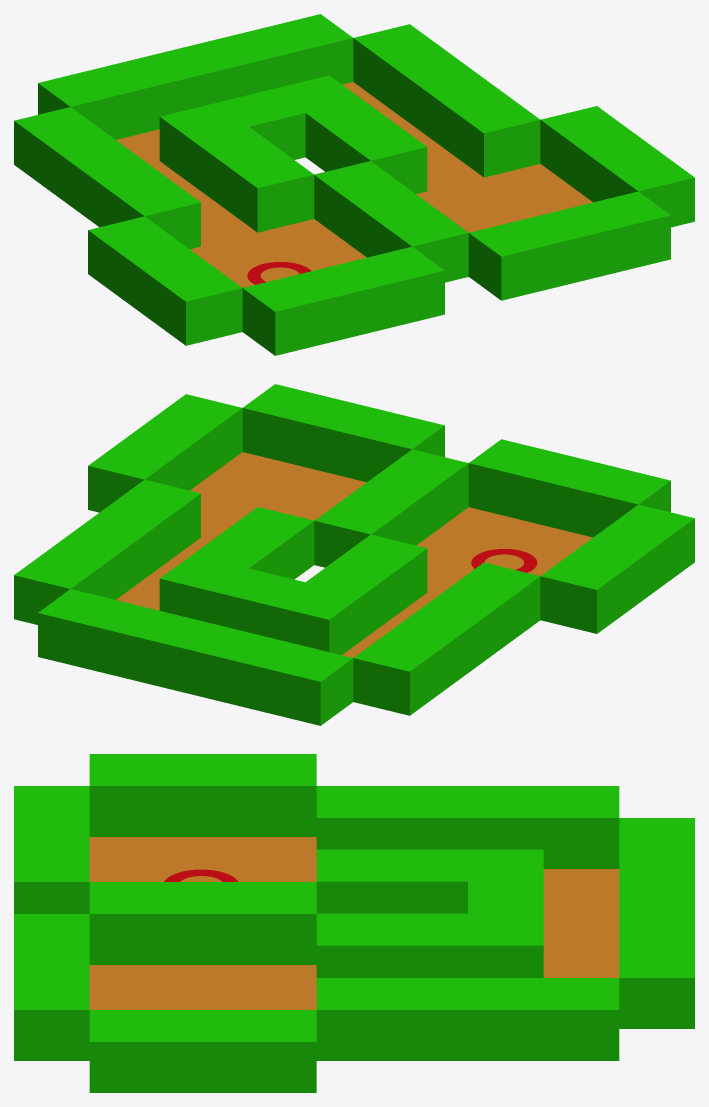
File: Level#8.fbx
3 views of the same model, one above another, from view 1: azimuth 30°, elevation 25°; view 2: azimuth 150°, elevation 25°; view 3: azimuth 270°, elevation 25° (orthographic). The views are drawn at different scales.
Parts seen in each view (by area): view 1: Grid, Torus; view 2: Grid, Torus; view 3: Grid, Torus.
Boxes of the visible parts, x1,y1,x2,y2 form: Grid: (14,14,694,355); Torus: (247,262,310,284); Grid: (14,384,694,725); Torus: (471,549,537,572); Grid: (14,754,694,1092); Torus: (164,869,238,881).
Size of the model in its own units: 200 by 16.66 by 200.
